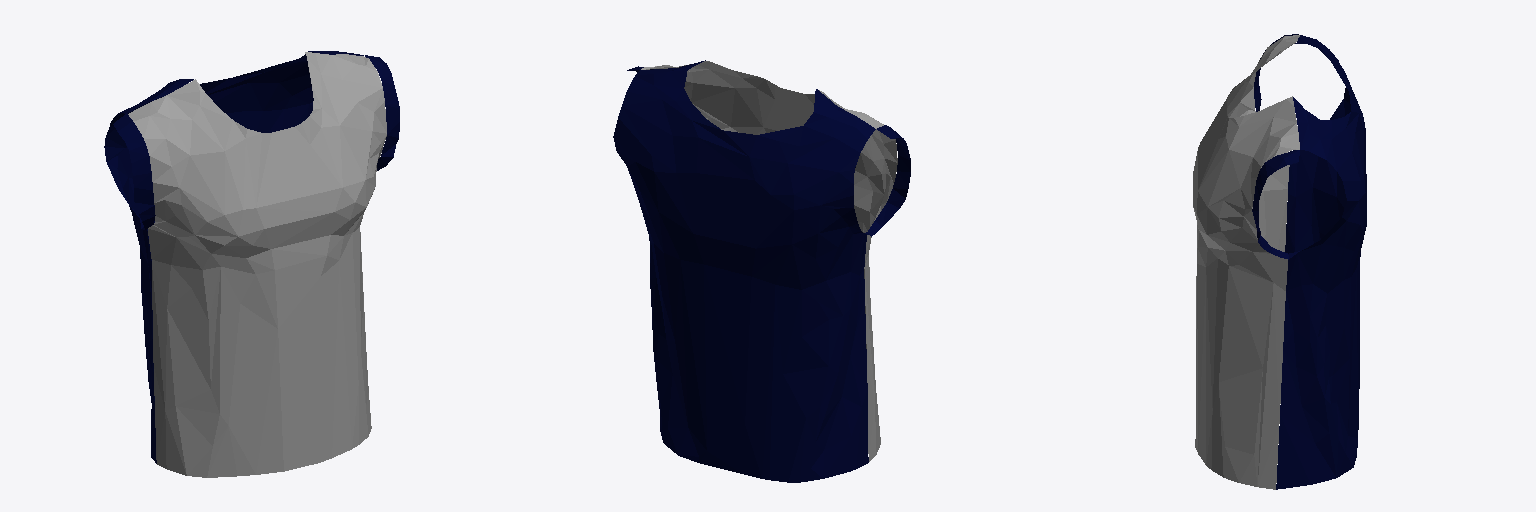
The picture shows the model from 3 angles: view 1: azimuth 30°, elevation 25°; view 2: azimuth 150°, elevation 25°; view 3: azimuth 270°, elevation 25°; orthographic projection.
Visible parts, largest first — view 1: T_shirt; view 2: T_shirt; view 3: T_shirt.
Part boxes in pixels (bbox=[...]): T_shirt: bbox=[104, 51, 399, 477]; T_shirt: bbox=[613, 60, 910, 482]; T_shirt: bbox=[1193, 34, 1366, 489].
Bounding box in the file's own units: 0.2935 × 0.3892 × 0.1639.